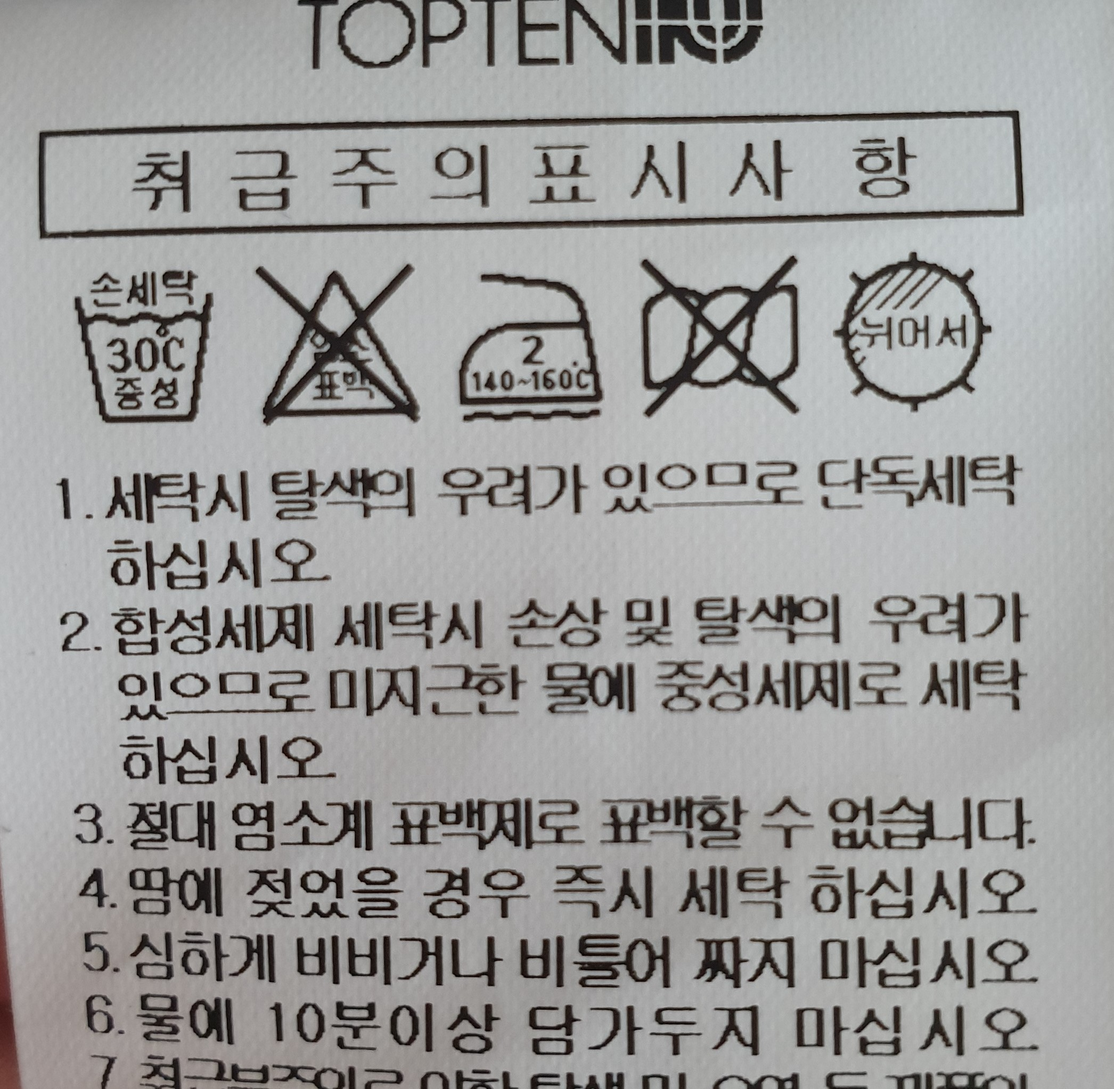KR_flat_dry_in_shade: (832, 248, 994, 416)
KR_hand_wash_30_neutral: (59, 260, 231, 435)
KR_iron_medium_temp_with_cloth: (441, 251, 613, 432)
KR_no_chlorine_bleach: (246, 254, 437, 435)
KR_no_wring: (631, 246, 815, 416)
